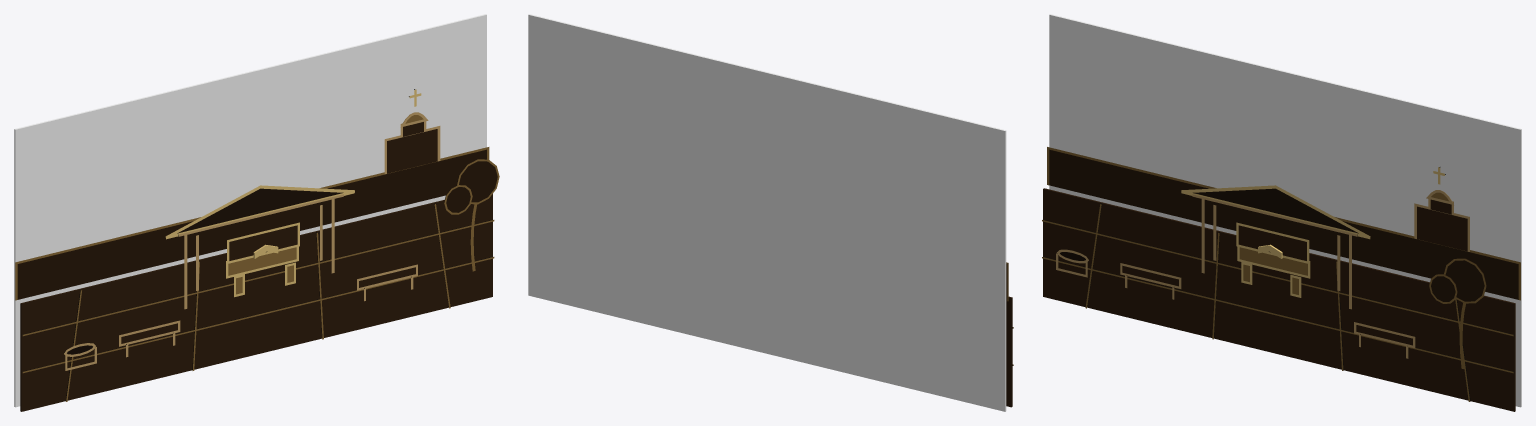
Rendered from loc-sudnyi-dvor-obiteli.glb.
3 views of the same model, side by side, from view 1: azimuth 30°, elevation 25°; view 2: azimuth 150°, elevation 25°; view 3: azimuth 330°, elevation 25° (orthographic).
Visible parts, largest first — view 1: loc-sudnyi-dvor-obiteli; view 2: loc-sudnyi-dvor-obiteli; view 3: loc-sudnyi-dvor-obiteli.
Boxes of the visible parts, box(x1,y1,x2,y2) form: loc-sudnyi-dvor-obiteli: box(14, 14, 499, 411); loc-sudnyi-dvor-obiteli: box(528, 14, 1013, 411); loc-sudnyi-dvor-obiteli: box(1042, 14, 1521, 411).
Bounding box in the file's own units: 5.36 × 3 × 0.501.
